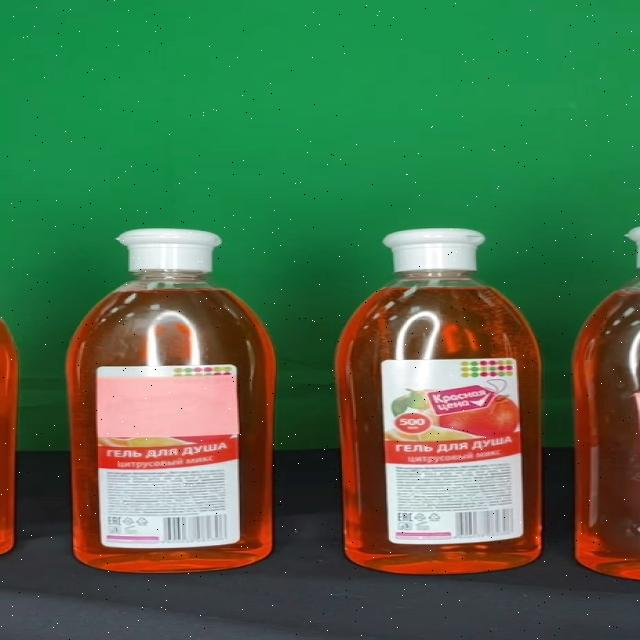Bottle: (66, 230, 278, 573), (334, 227, 542, 573)
Cap: (118, 230, 222, 272), (382, 228, 485, 270)
